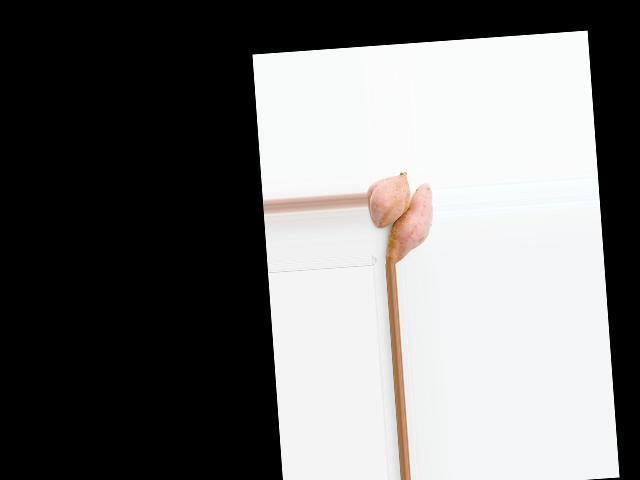sweet_potato: (371, 171, 408, 225)
